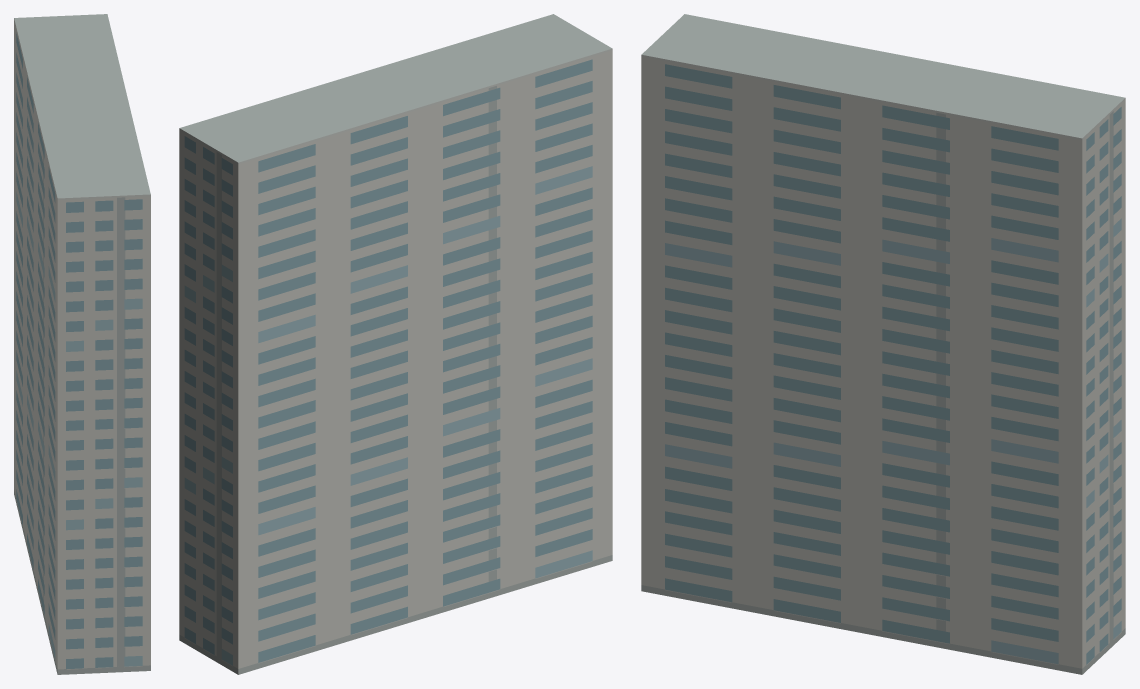
Rendered from residential-5d94d307-d795-4846-924c-ed2cf835e3f4.glb.
The picture shows the model from 3 angles, left to right: view 1: azimuth 30°, elevation 25°; view 2: azimuth 150°, elevation 25°; view 3: azimuth 270°, elevation 25°; orthographic projection. The views are drawn at different scales.
Visible parts, largest first — view 1: residential-5d94d307-d795-4846-924c-ed2cf835e3f4.tmp; view 2: residential-5d94d307-d795-4846-924c-ed2cf835e3f4.tmp; view 3: residential-5d94d307-d795-4846-924c-ed2cf835e3f4.tmp.
Boxes of the visible parts, x1=… form: residential-5d94d307-d795-4846-924c-ed2cf835e3f4.tmp: x1=14, y1=14, x2=150, y2=674; residential-5d94d307-d795-4846-924c-ed2cf835e3f4.tmp: x1=179, y1=14, x2=612, y2=674; residential-5d94d307-d795-4846-924c-ed2cf835e3f4.tmp: x1=641, y1=14, x2=1125, y2=674.
Bounding box in the file's own units: 32.83 × 66 × 53.99.
